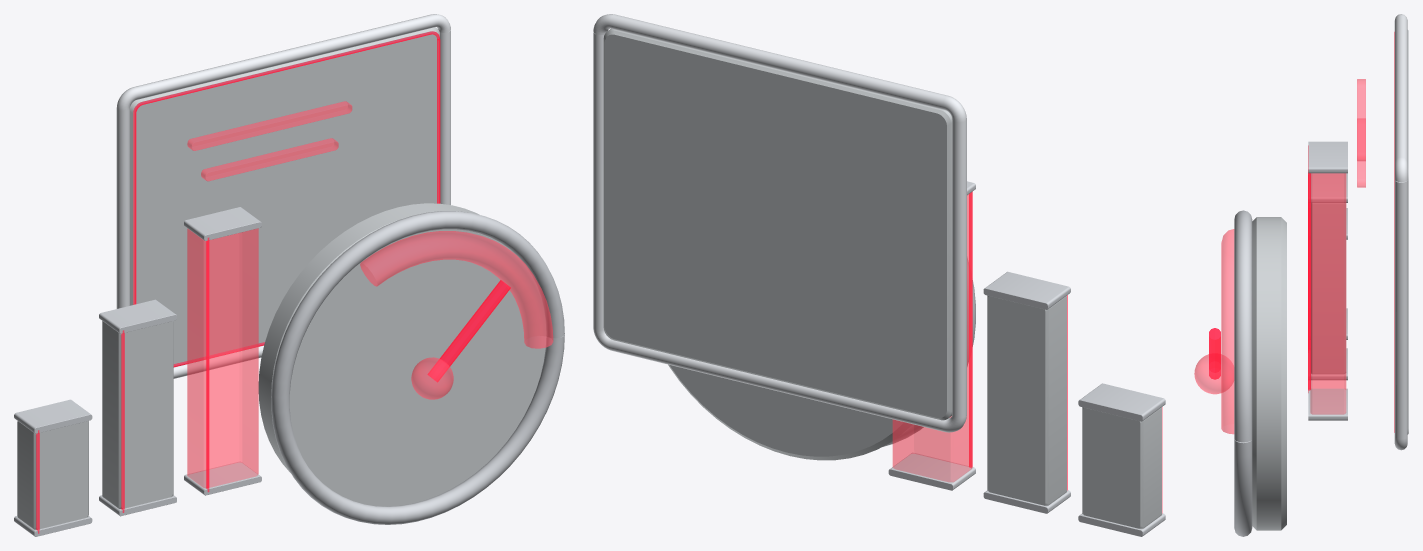
Rendered from 10-kpi.glb.
3 views of the same model, side by side, from view 1: azimuth 30°, elevation 25°; view 2: azimuth 150°, elevation 25°; view 3: azimuth 270°, elevation 25° (orthographic). The views are drawn at different scales.
Visible parts, largest first — view 1: BC clear optical glass, BC ruby optical glass, BC satin silver metal, BC polished silver metal, BC neon red glass edge; view 2: BC clear optical glass, BC polished silver metal, BC satin silver metal, BC ruby optical glass, BC neon red glass edge; view 3: BC clear optical glass, BC ruby optical glass, BC satin silver metal, BC polished silver metal, BC neon red glass edge.
Part boxes in pixels (<box>): BC clear optical glass: <box>17,27,545,529</box>; BC ruby optical glass: <box>187,101,553,487</box>; BC satin silver metal: <box>14,207,564,536</box>; BC polished silver metal: <box>116,14,450,378</box>; BC neon red glass edge: <box>36,31,510,533</box>; BC clear optical glass: <box>603,28,1161,528</box>; BC polished silver metal: <box>593,14,966,432</box>; BC satin silver metal: <box>883,181,1165,536</box>; BC ruby optical glass: <box>892,192,972,481</box>; BC neon red glass edge: <box>969,191,1162,513</box>; BC clear optical glass: <box>1252,30,1408,530</box>; BC ruby optical glass: <box>1194,79,1365,434</box>; BC satin silver metal: <box>1234,141,1347,536</box>; BC polished silver metal: <box>1394,14,1407,450</box>; BC neon red glass edge: <box>1209,32,1394,432</box>.
Size of the model in its own units: 2.16 by 1.76 by 0.8325.
